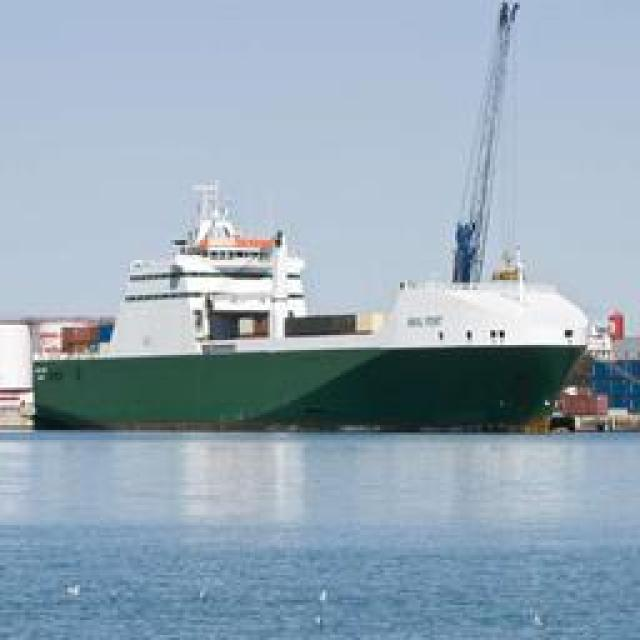ship2: (31, 182, 590, 435)
